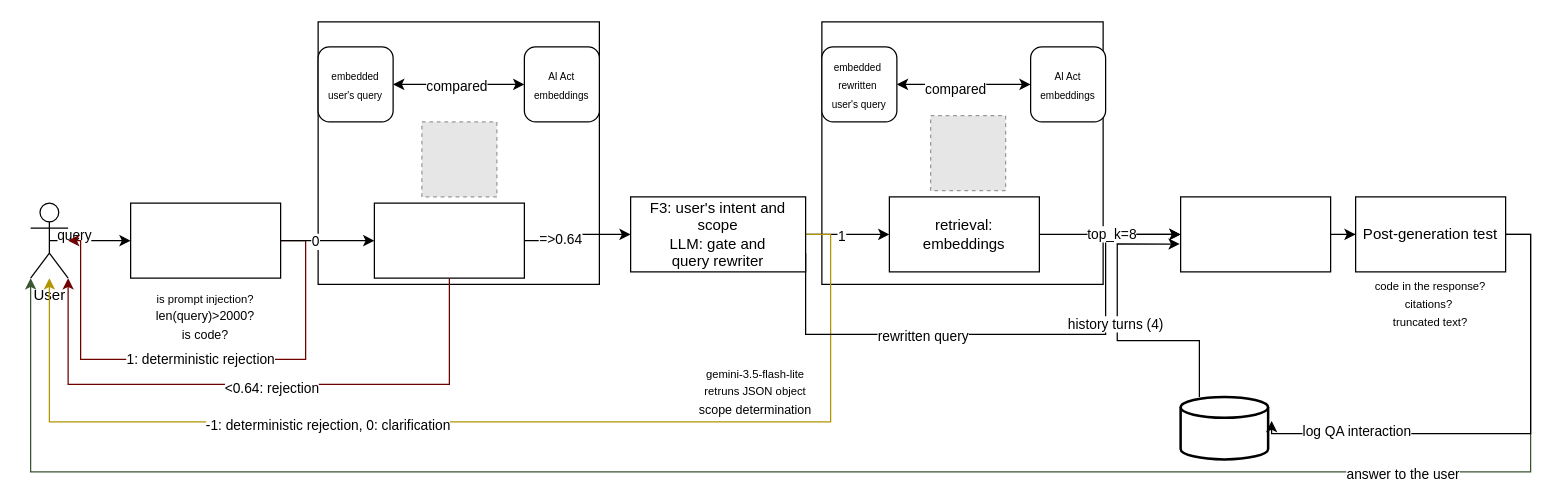
The diagram is 1563 pixels wide and 504 high, and some of its shapes have lost their labels. Grey dashed boxes stand in for pictures. The shapes that lost their labels are listed below. From the top down, each one's box as (x1, y1, x2, y2) in pixels, then its label:
(129, 202, 281, 278): F1: pre-filter
(373, 202, 524, 278): vector similarity
(1179, 196, 1331, 272): LLM: answer generation
(1179, 395, 1269, 460): SQLite
